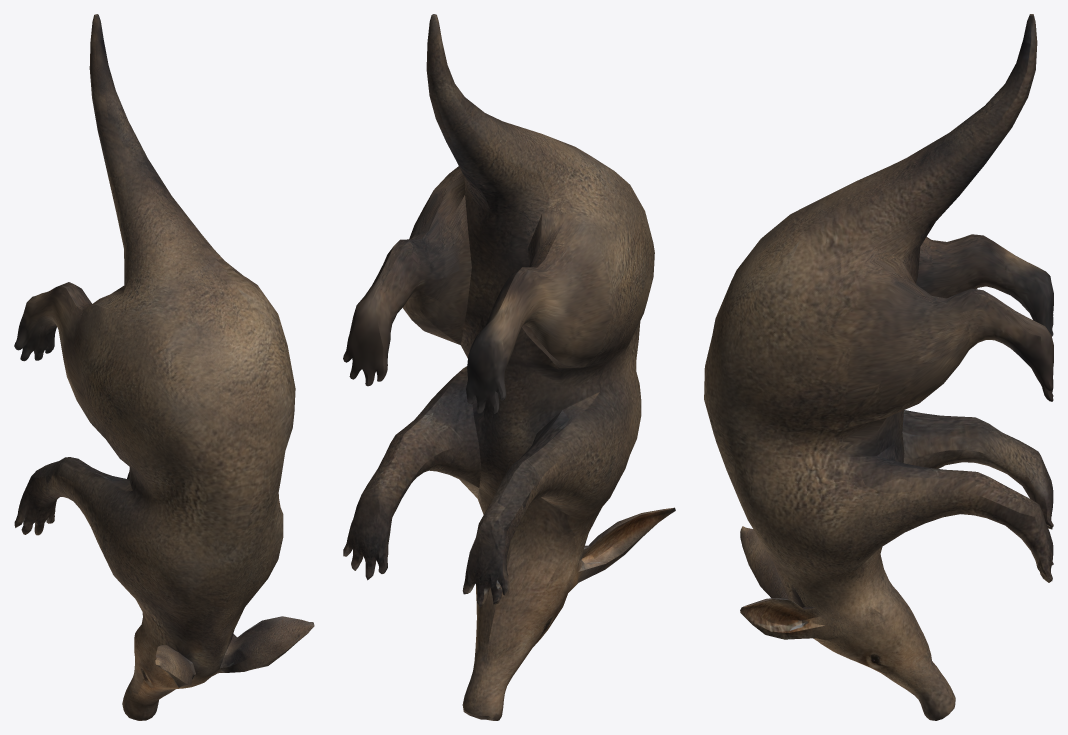
Rendered from aardvark2.obj.
3 renders of one model, left to right at view 1: azimuth 30°, elevation 25°; view 2: azimuth 150°, elevation 25°; view 3: azimuth 270°, elevation 25°, orthographic. The views are drawn at different scales.
Parts seen in each view (by area): view 1: FACESET_Aardvark; view 2: FACESET_Aardvark; view 3: FACESET_Aardvark.
Boxes of the visible parts, x1=… form: FACESET_Aardvark: x1=14, y1=14, x2=314, y2=720; FACESET_Aardvark: x1=343, y1=14, x2=675, y2=720; FACESET_Aardvark: x1=704, y1=14, x2=1053, y2=720.
Bounding box in the file's own units: 0.2731 × 1 × 0.4514.
